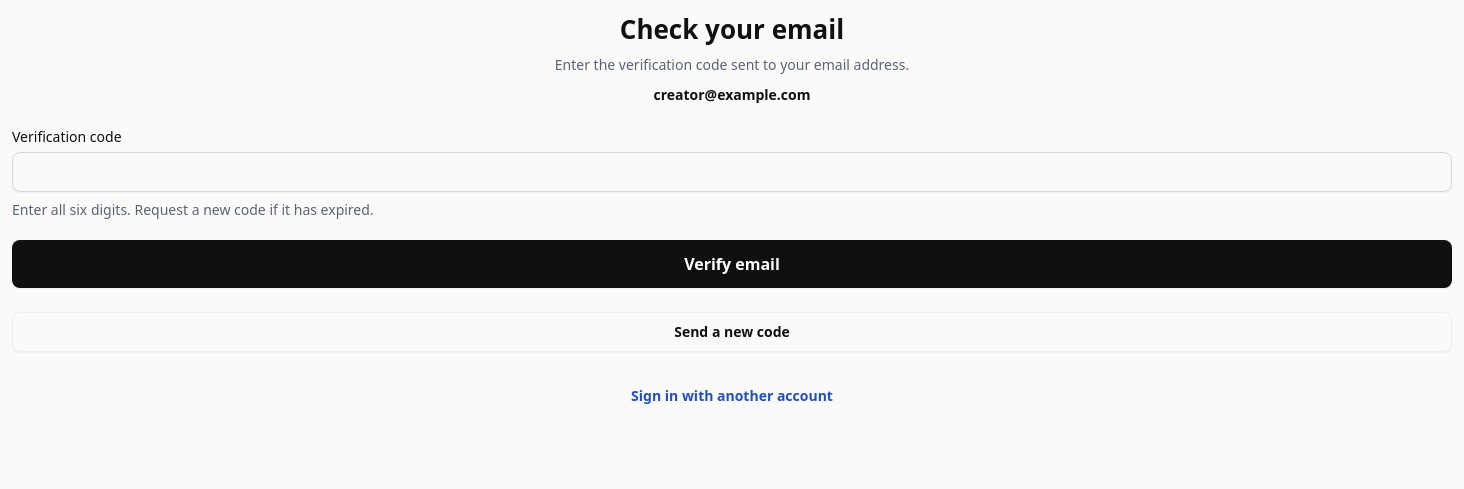
React Query auth forms › accepts a code typed with a Persian keyboard
The image size is (1464, 489).
Type "۰۱۲۳۴۵" into the field labelled "Verification code" at (732, 172), box [12,152,1452,192]
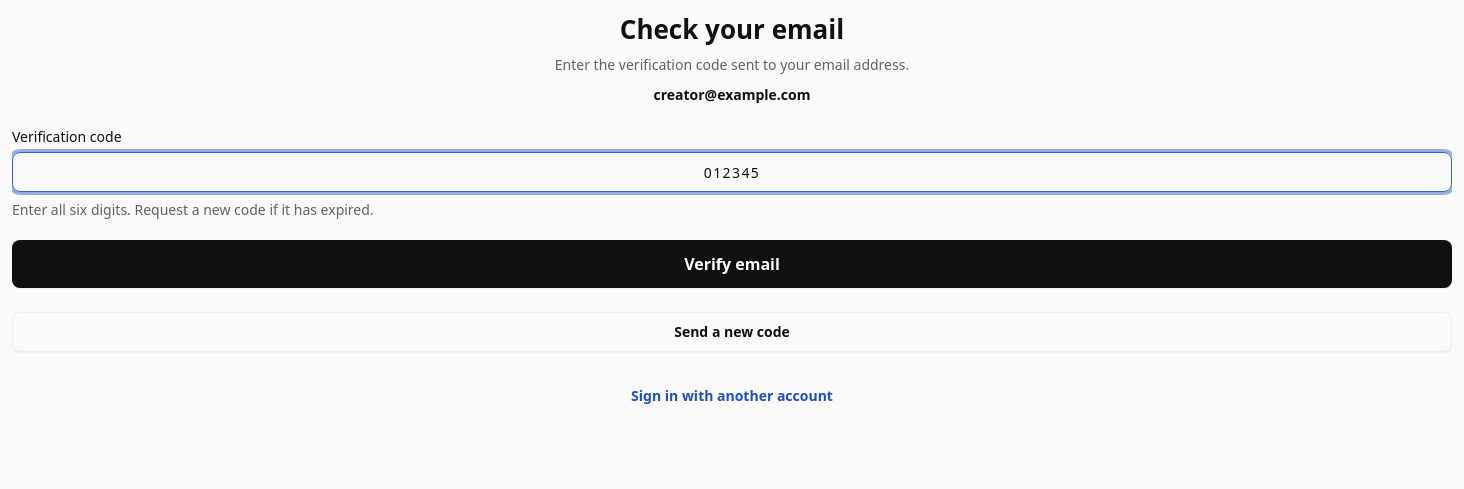
Now the field labelled "Verification code" holds "012345", box [12,152,1452,192]
Click the button "Verify email" at (732, 264), box [12,240,1452,288]
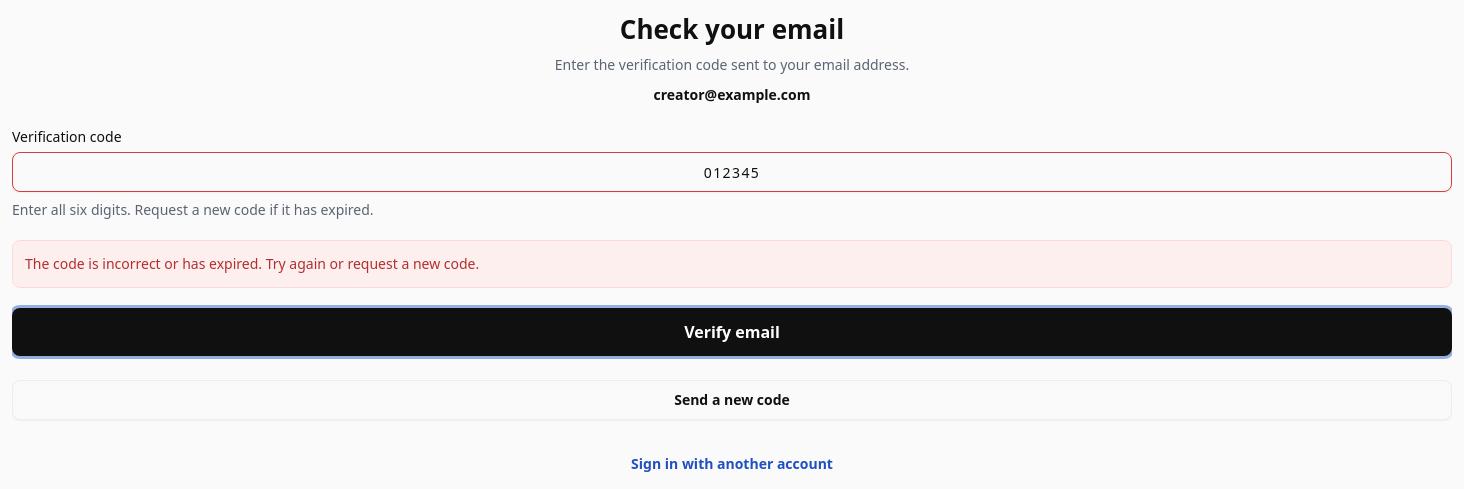
Now the message "The code is incorrect or has expired. Try again or request a new code." is shown, box [12,240,1452,288]
